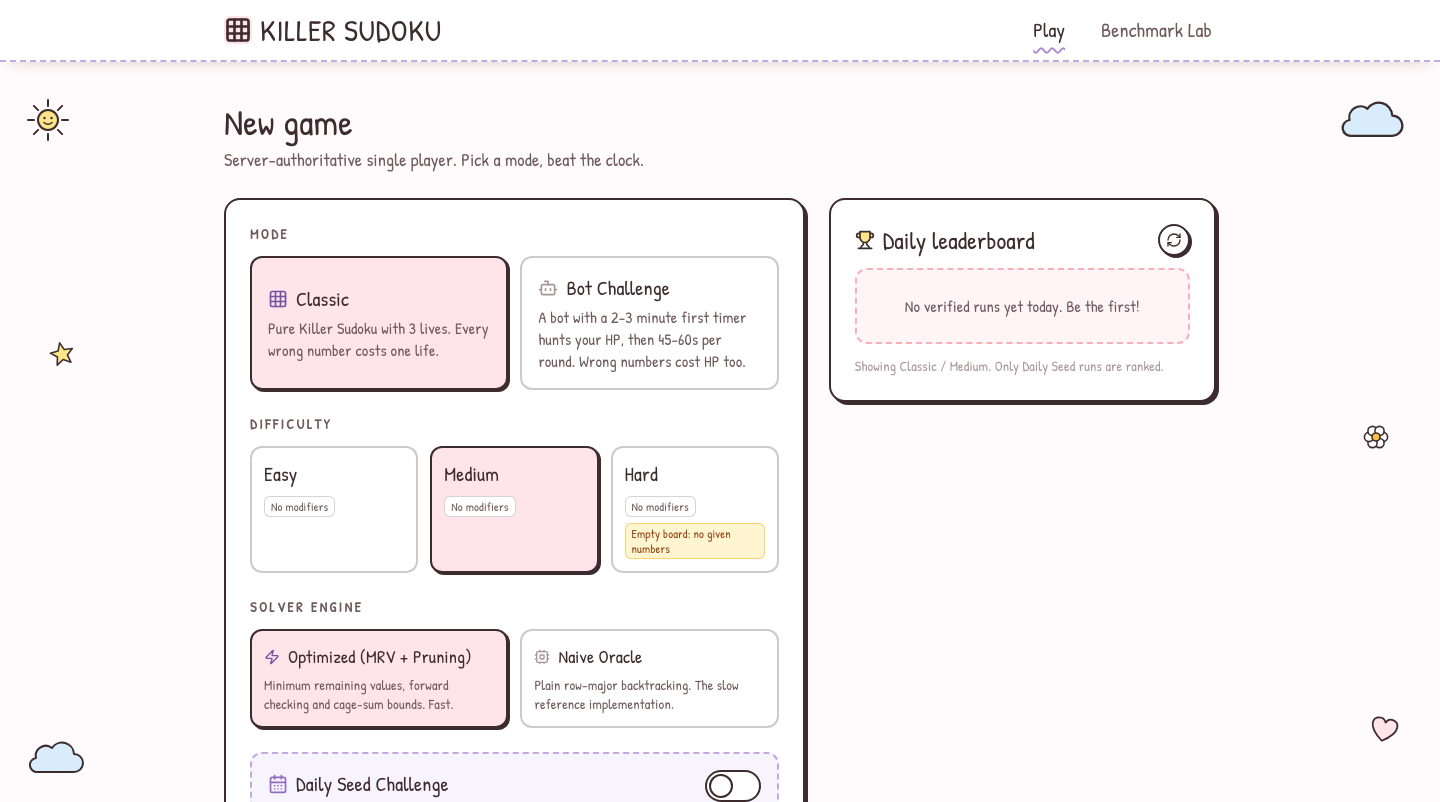
Test: Leaderboard › shows an empty state and an error state with retry
Expected: the text "No verified runs yet today. Be the first!" is shown, 855,268 -> 1190,344
Click the button named "Refresh leaderboard".
click(1174, 240)  # box 1158,224 -> 1190,256
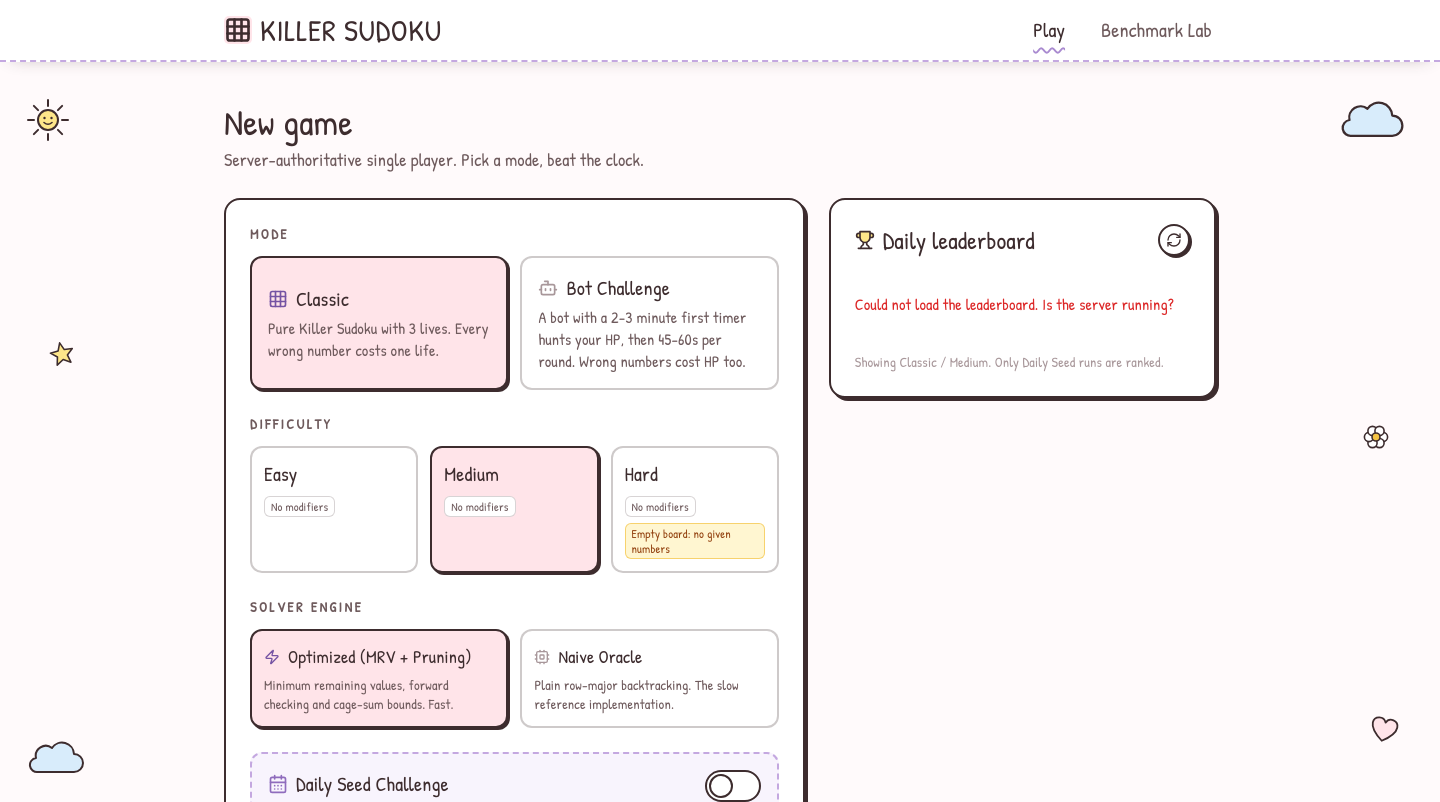
Now the text "Could not load the leaderboard. Is the server running?" is shown, box 855,293 -> 1174,315
Click the button named "Refresh leaderboard".
click(1174, 240)  # box 1158,224 -> 1190,256
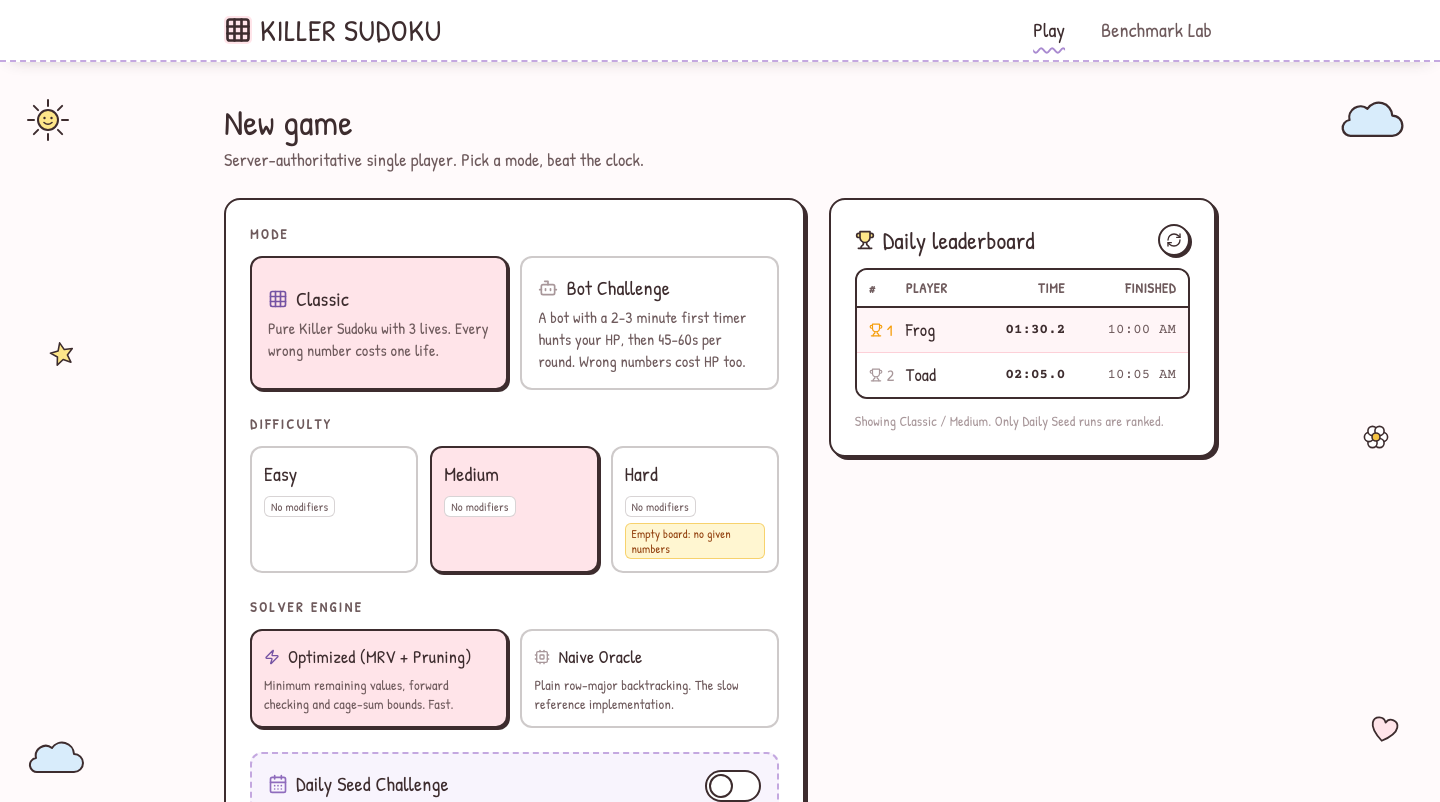
Now the table is shown, box 857,270 -> 1188,397
